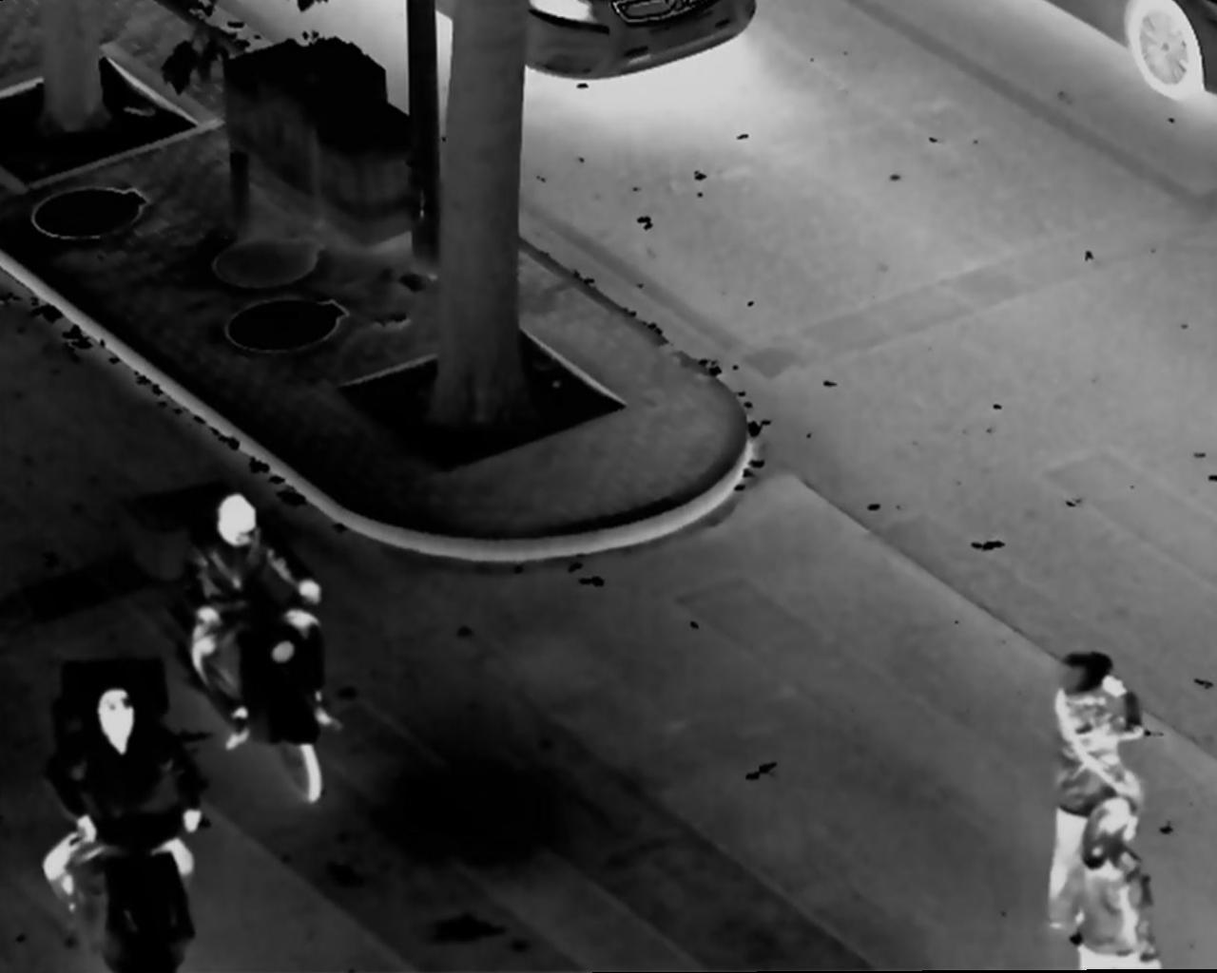person: (181, 489, 345, 748), (1042, 620, 1166, 942), (43, 690, 214, 920), (1078, 785, 1161, 973)
